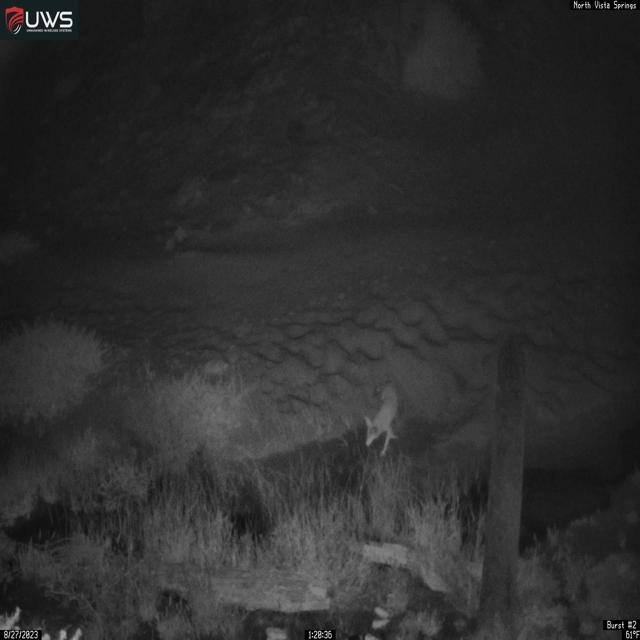coyote: (364, 383, 400, 458)
